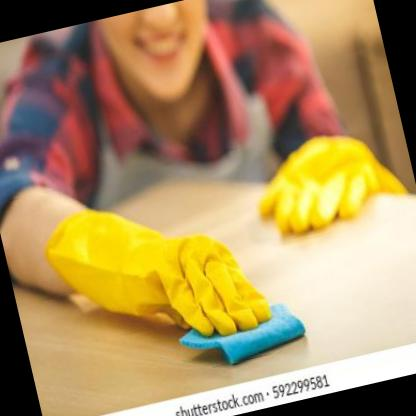Gloves: (37, 170, 275, 368), (242, 116, 416, 245)
